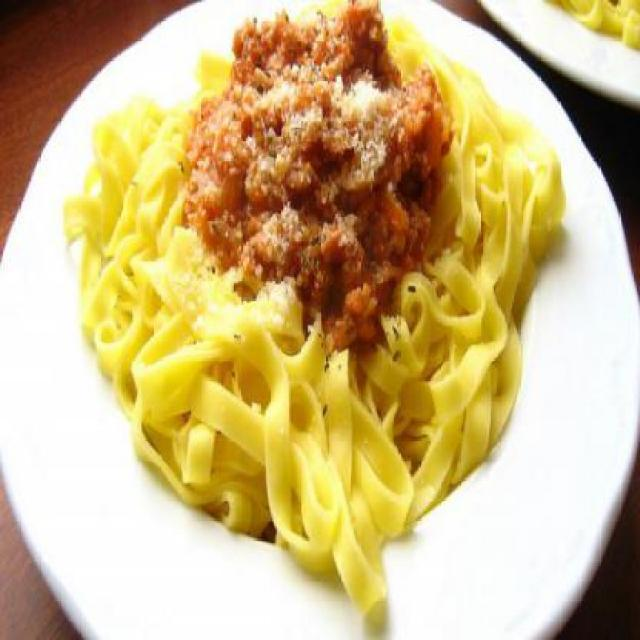Pasta al ragu: (94, 2, 583, 550)
